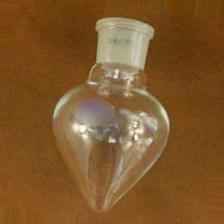Pear shaped flask: (44, 17, 174, 207)
